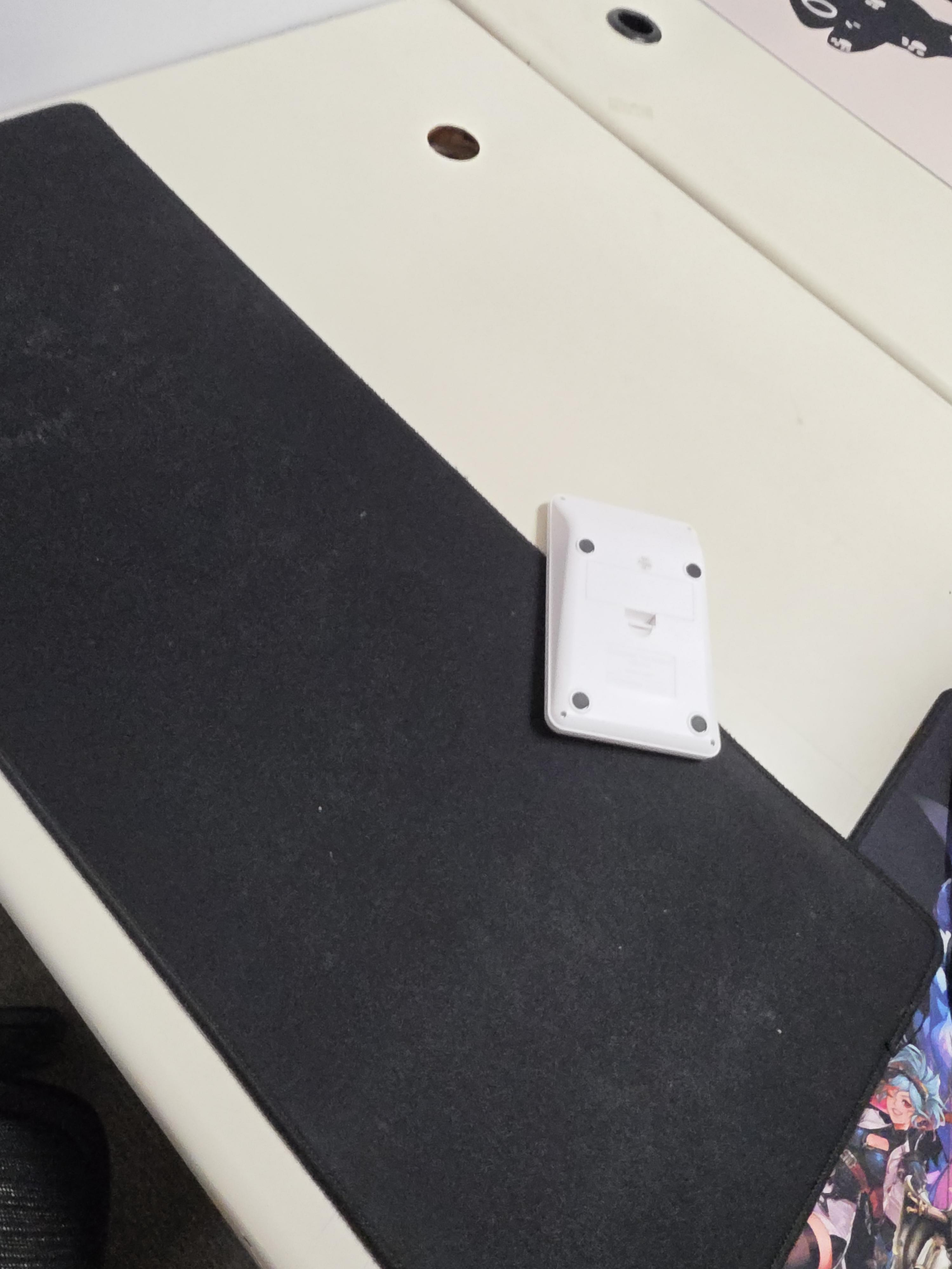calculator: (544, 495, 722, 760)
